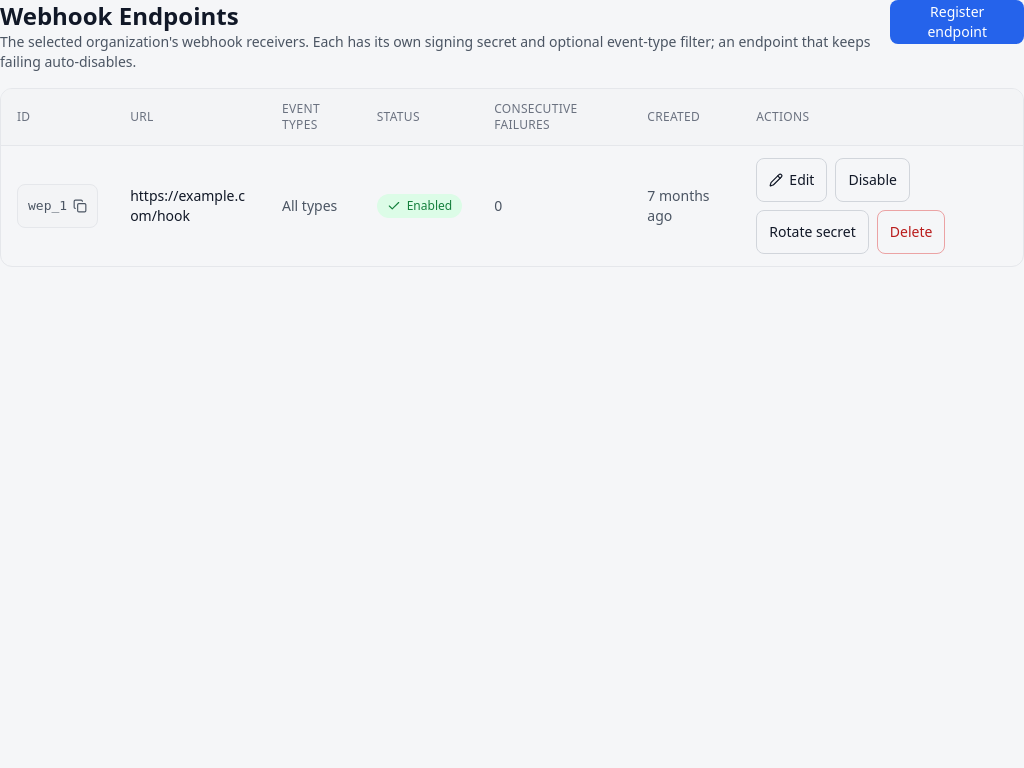
Test: WebhookEndpointsPage › rotating an endpoint's secret opens SecretOnceModal with the newly rotated secret
Click the button "Rotate secret" at (813,232), box top-left (756, 210), bottom-right (869, 254)
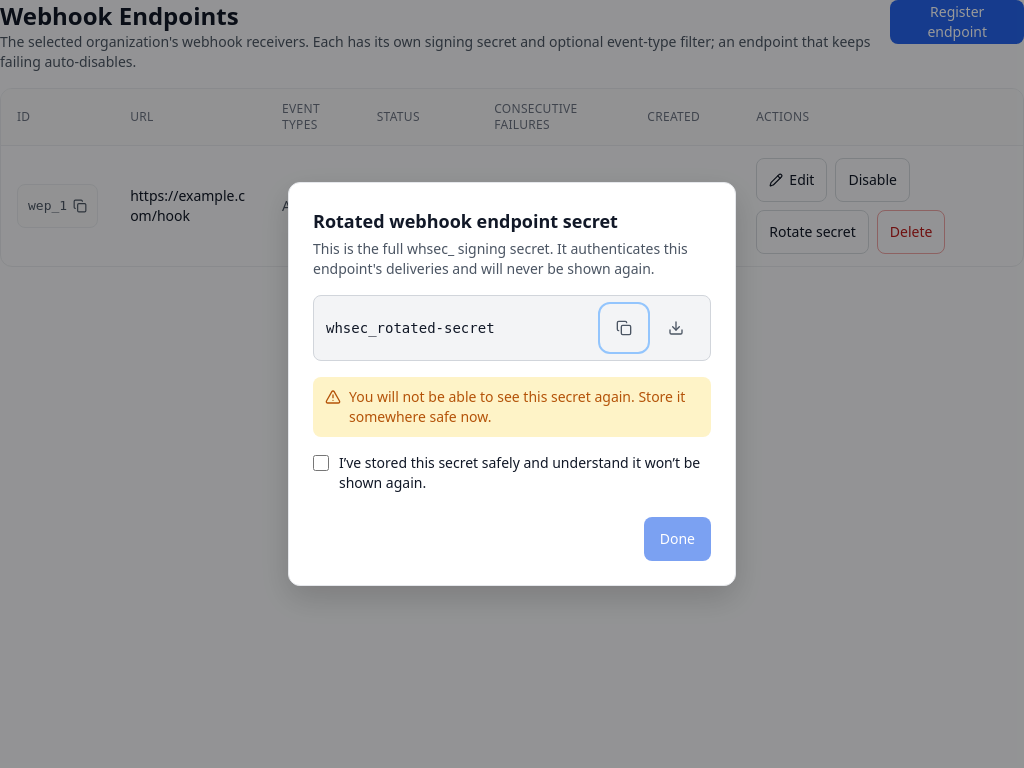
expect the text "whsec_rotated-secret" is shown: met, box top-left (326, 320), bottom-right (495, 336)
